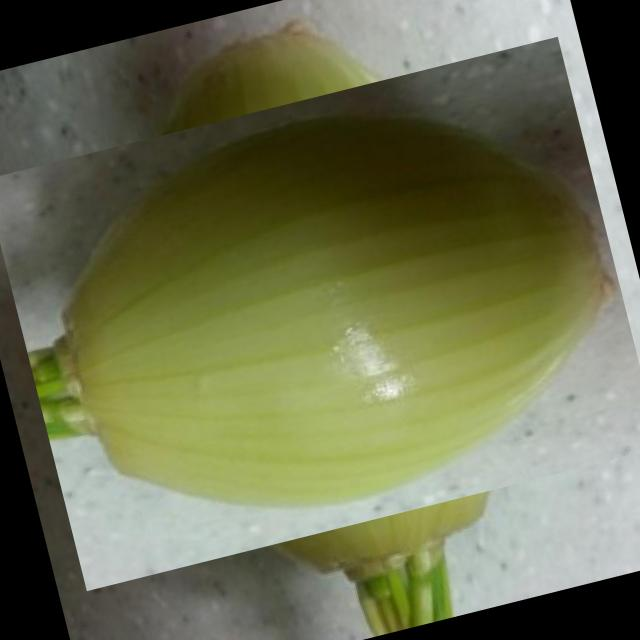Onion: (14, 6, 630, 620)
